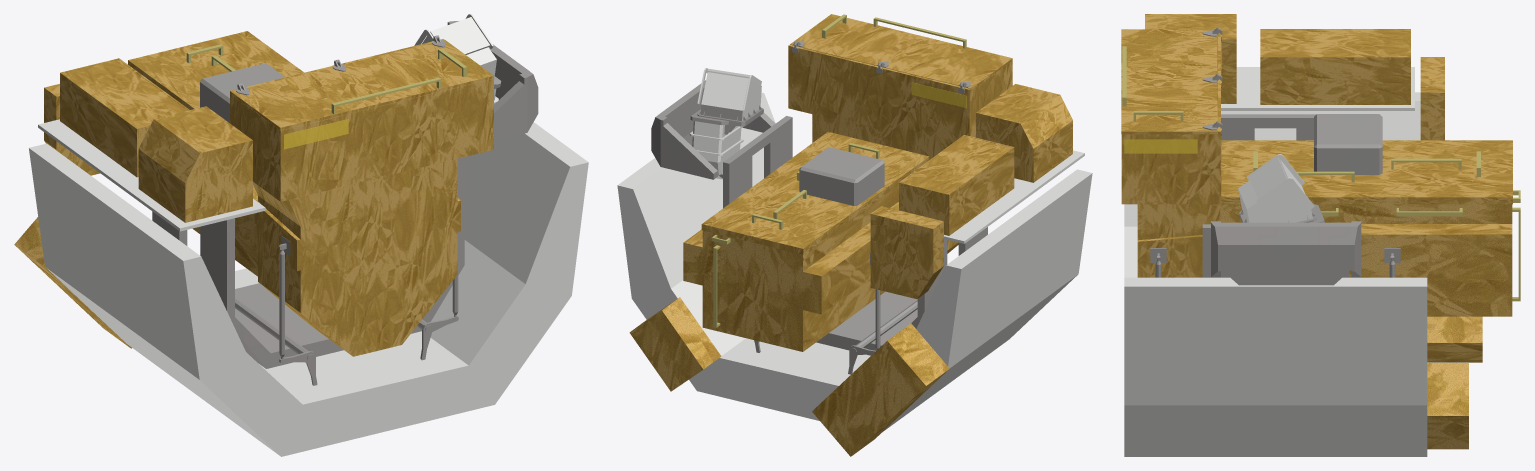
Rendered from Orbital_Replacement_Unit.glb.
3 views of the same model, side by side, from view 1: azimuth 30°, elevation 25°; view 2: azimuth 150°, elevation 25°; view 3: azimuth 270°, elevation 25° (orthographic). The views are drawn at different scales.
Visible parts, largest first — view 1: spaceshutt; view 2: spaceshutt; view 3: spaceshutt.
Part boxes in pixels (bbox=[...]): spaceshutt: bbox=[14, 14, 588, 456]; spaceshutt: bbox=[617, 14, 1092, 456]; spaceshutt: bbox=[1121, 14, 1520, 456].
Bounding box in the file's own units: 174 × 141 × 151.
4 materials, 4 textured.
